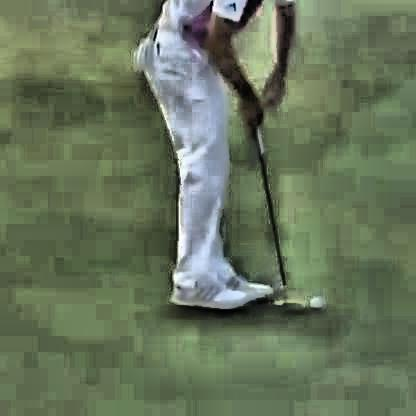golfball: (307, 291, 320, 307)
